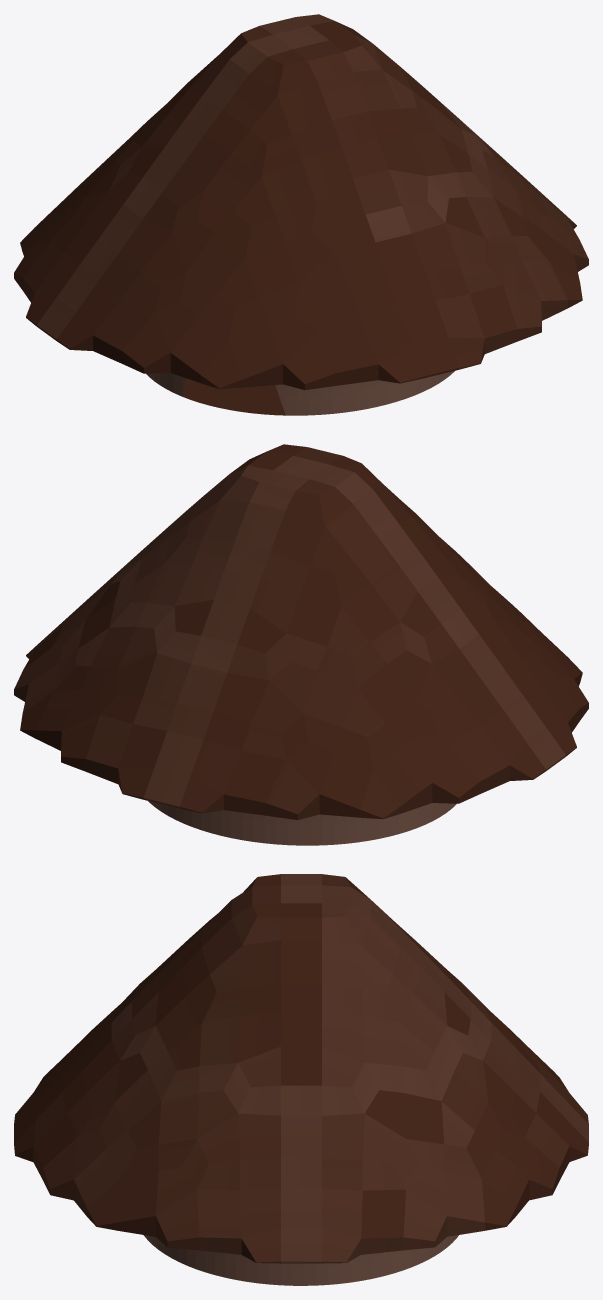
The model's file is ocas pequena2.fbx.
The picture shows the model from 3 angles, top to bottom: view 1: azimuth 30°, elevation 25°; view 2: azimuth 150°, elevation 25°; view 3: azimuth 270°, elevation 25°; orthographic projection. The views are drawn at different scales.
Visible parts, largest first — view 1: Cone.005, Cylinder.004; view 2: Cone.005, Cylinder.004; view 3: Cone.005, Cylinder.004.
Boxes of the visible parts, box(x1,y1,x2,y2) form: Cone.005: box(14, 14, 588, 389); Cylinder.004: box(146, 371, 454, 415); Cone.005: box(14, 444, 588, 819); Cylinder.004: box(148, 801, 456, 845); Cone.005: box(14, 874, 588, 1263); Cylinder.004: box(143, 1235, 458, 1285).
Size of the model in its own units: 377 by 219 by 358.
Materials: 2 (2 with a texture image).
